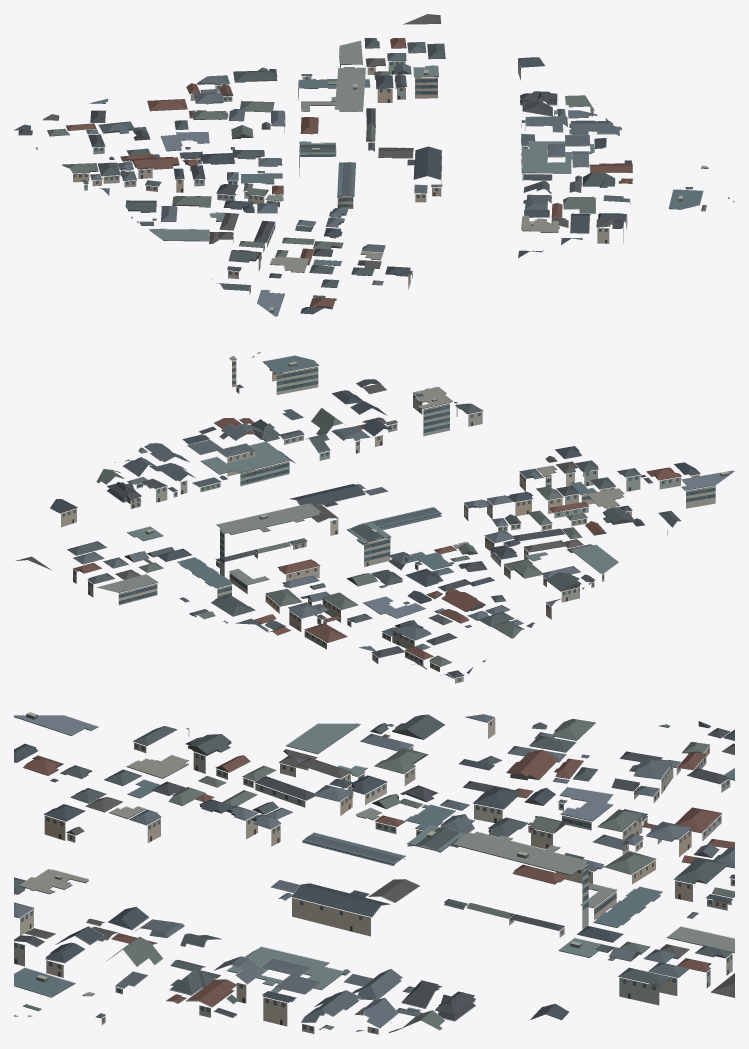
The picture shows the model from 3 angles, top to bottom: view 1: azimuth 30°, elevation 25°; view 2: azimuth 150°, elevation 25°; view 3: azimuth 270°, elevation 25°; orthographic projection. The views are drawn at different scales.
Visible parts, largest first — view 1: r0-c0; view 2: r0-c0; view 3: r0-c0.
Boxes of the visible parts, x1,y1,x2,y2 form: r0-c0: (14,14,734,316); r0-c0: (16,352,734,683); r0-c0: (14,712,734,1034).
Size of the model in its own units: 250 by 24.5 by 250.
